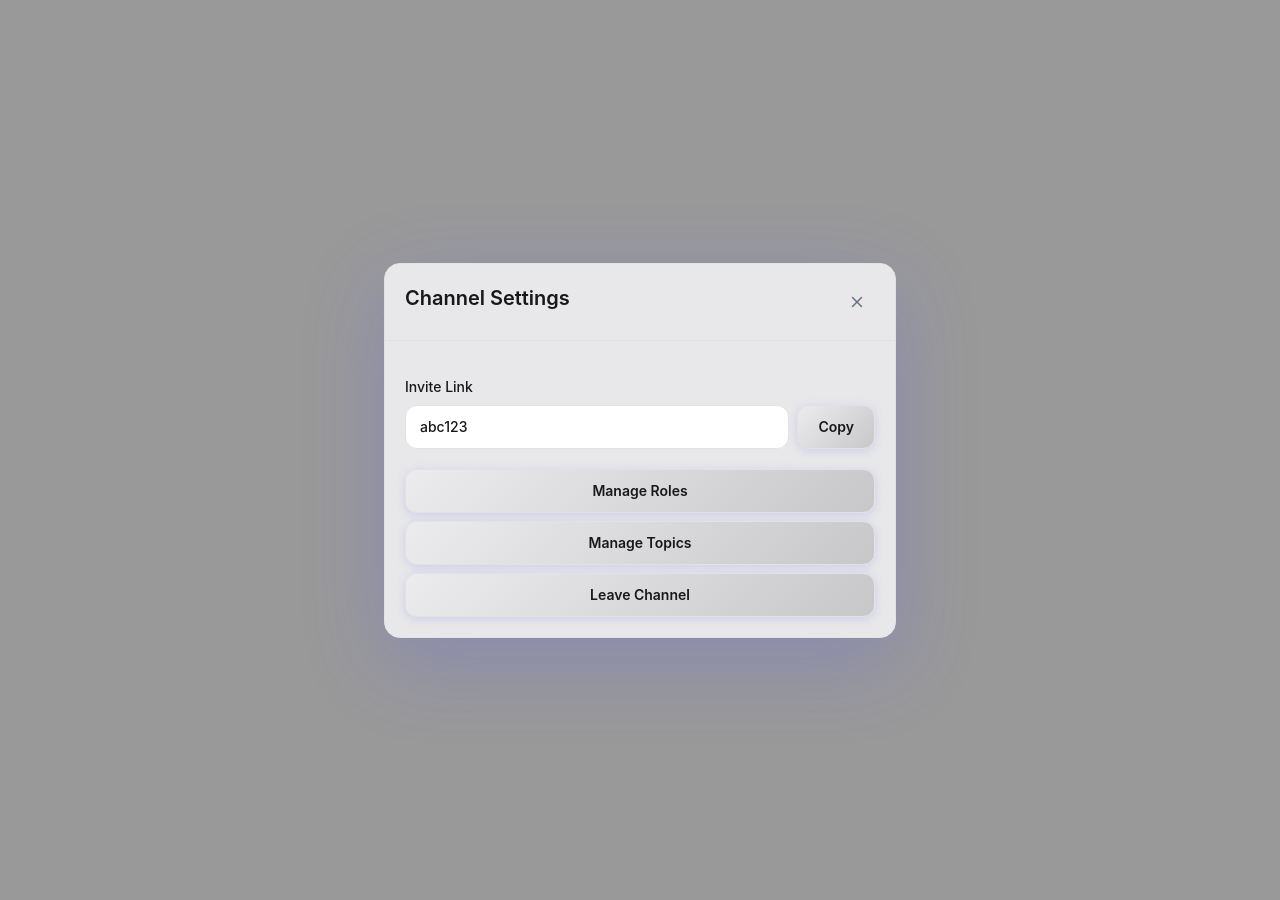
Test case: ChannelSettingsModal › navigates into the roles and topics sub-panels
The image size is (1280, 900).
Click the button "Manage Roles": click(640, 490) 405,468 -> 875,512
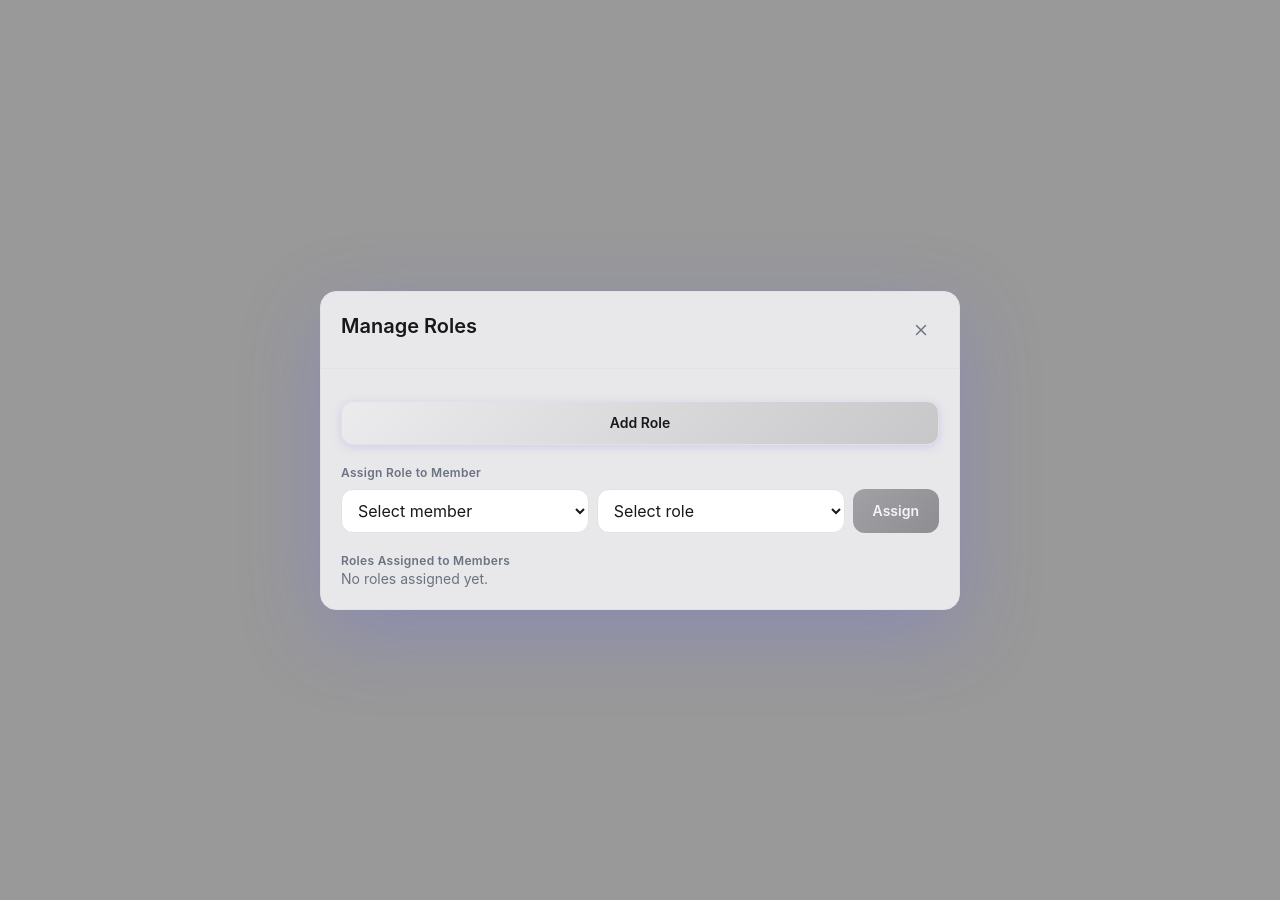
Check: the heading "Manage Roles" is shown, box 341,312 -> 477,340
